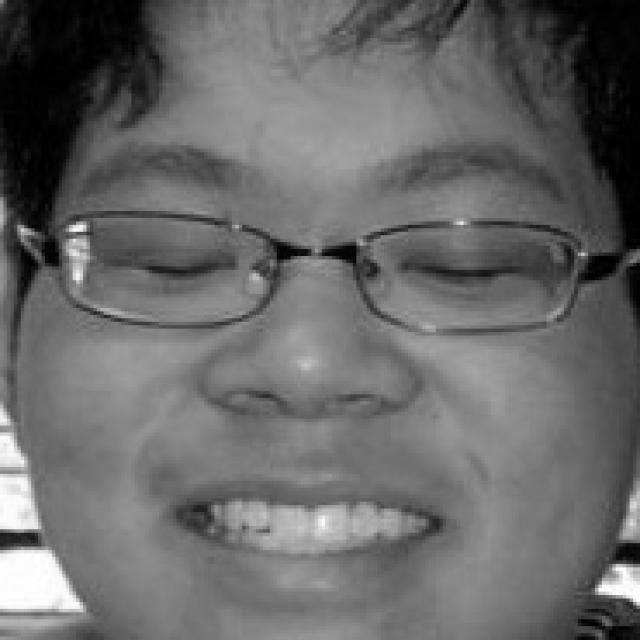real: (107, 0, 491, 581), (152, 202, 540, 333)
